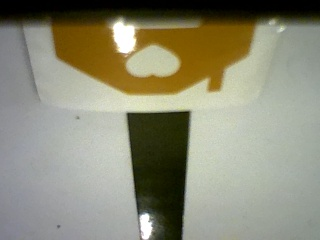Rescue_Station: (50, 21, 258, 96)
